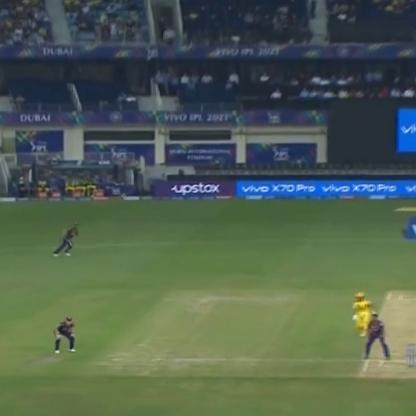pitch: (356, 278, 416, 384)
